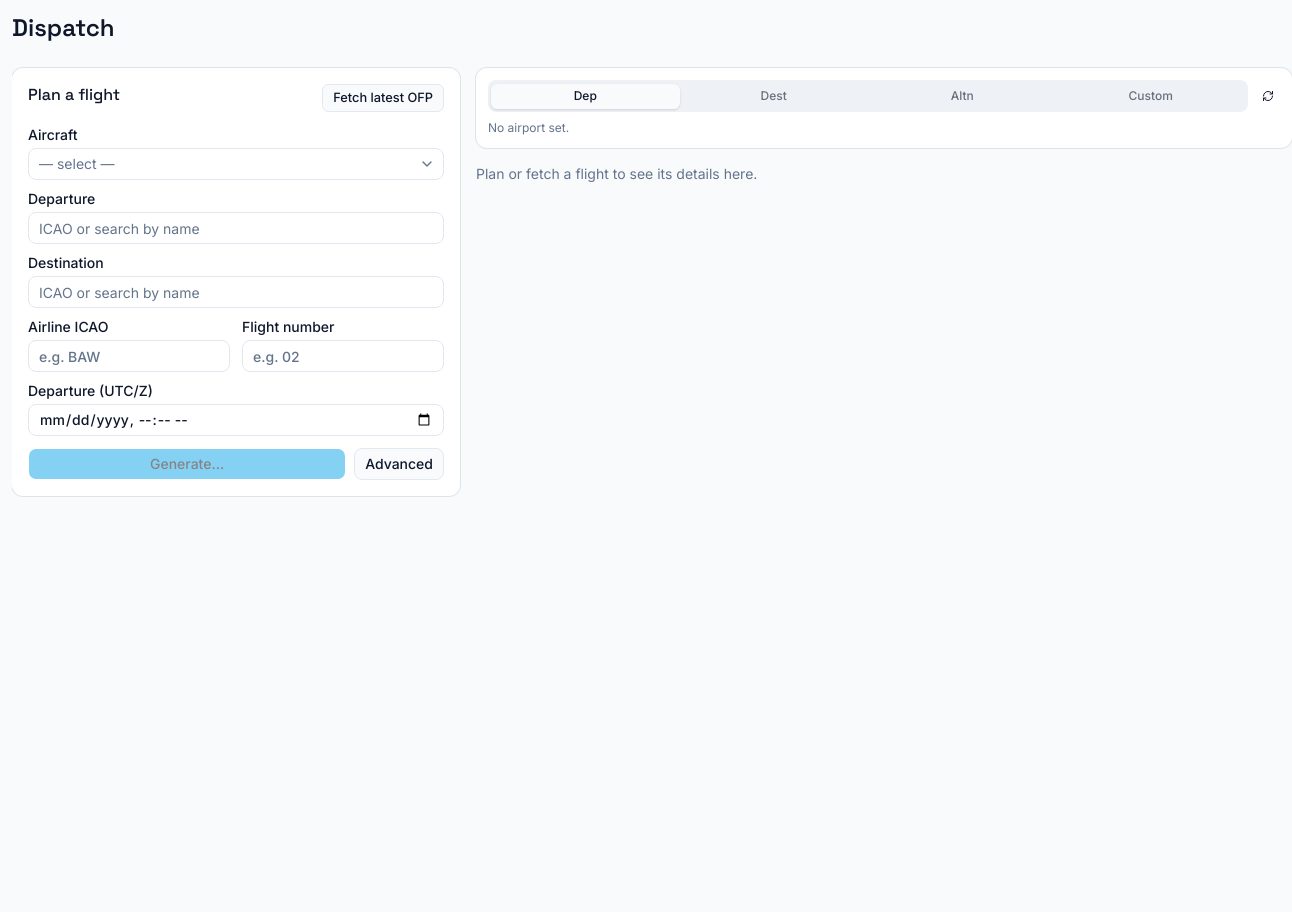
Test: DispatchView › fetching a plan › prefers an aircraft already chosen in "Plan a flight" over the OFP's own registration match
Click the dropdown.
click(77, 164)  # box [28,148,444,180]
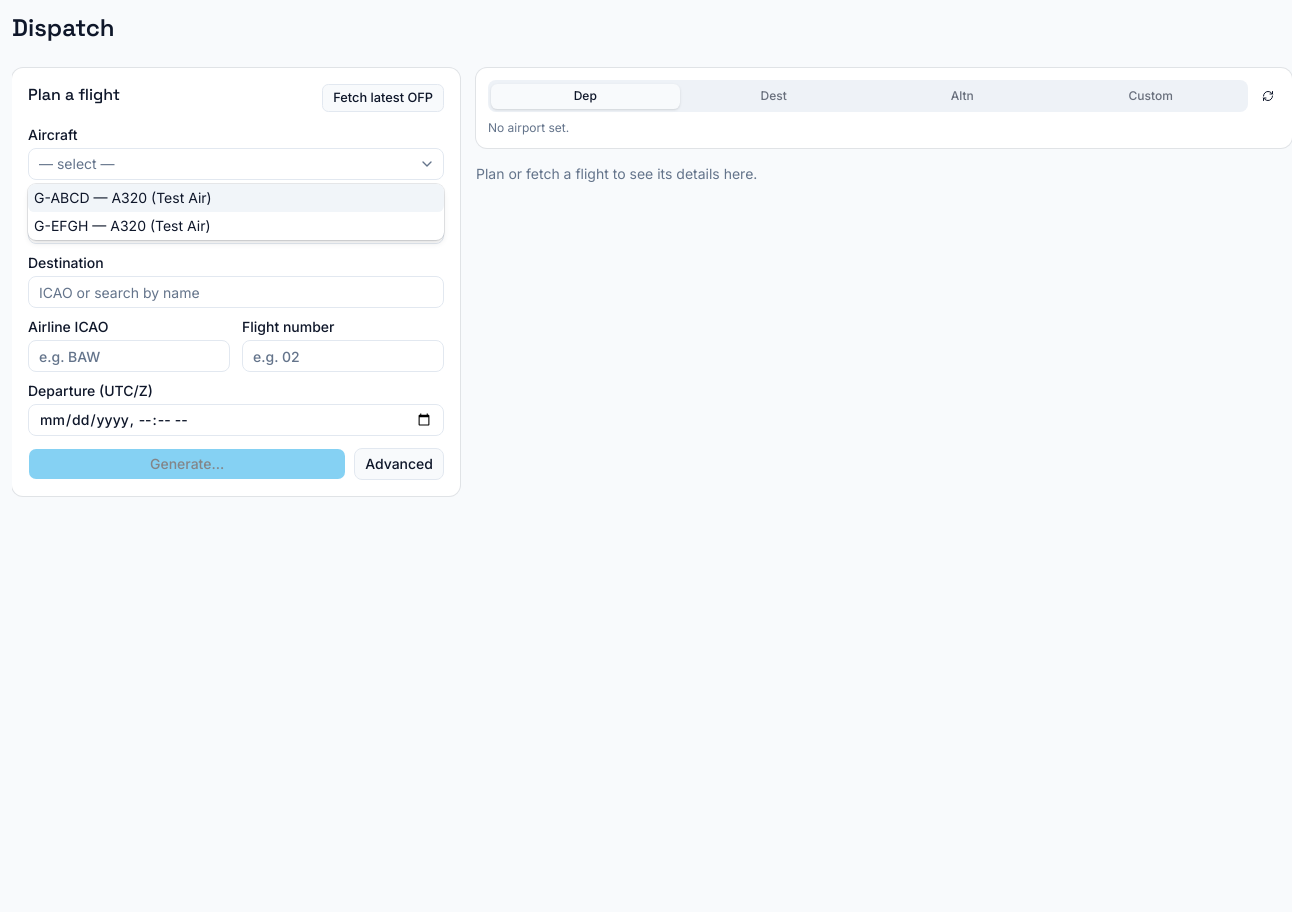
Click the option "G-ABCD — A320 (Test Air)".
click(123, 198)  # box [28,184,444,212]
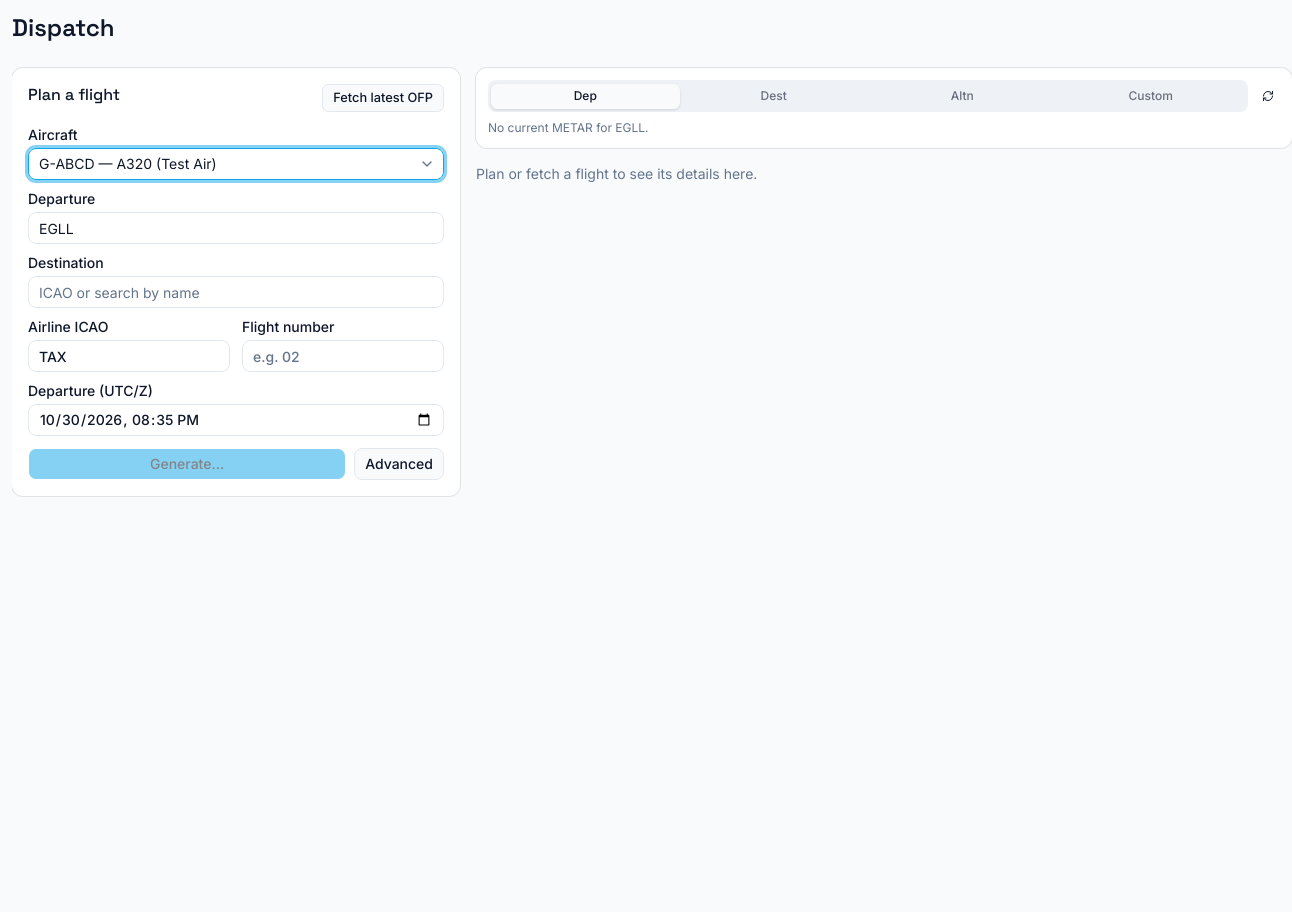
Click the button "Fetch latest OFP".
click(383, 98)  # box [322,84,444,112]
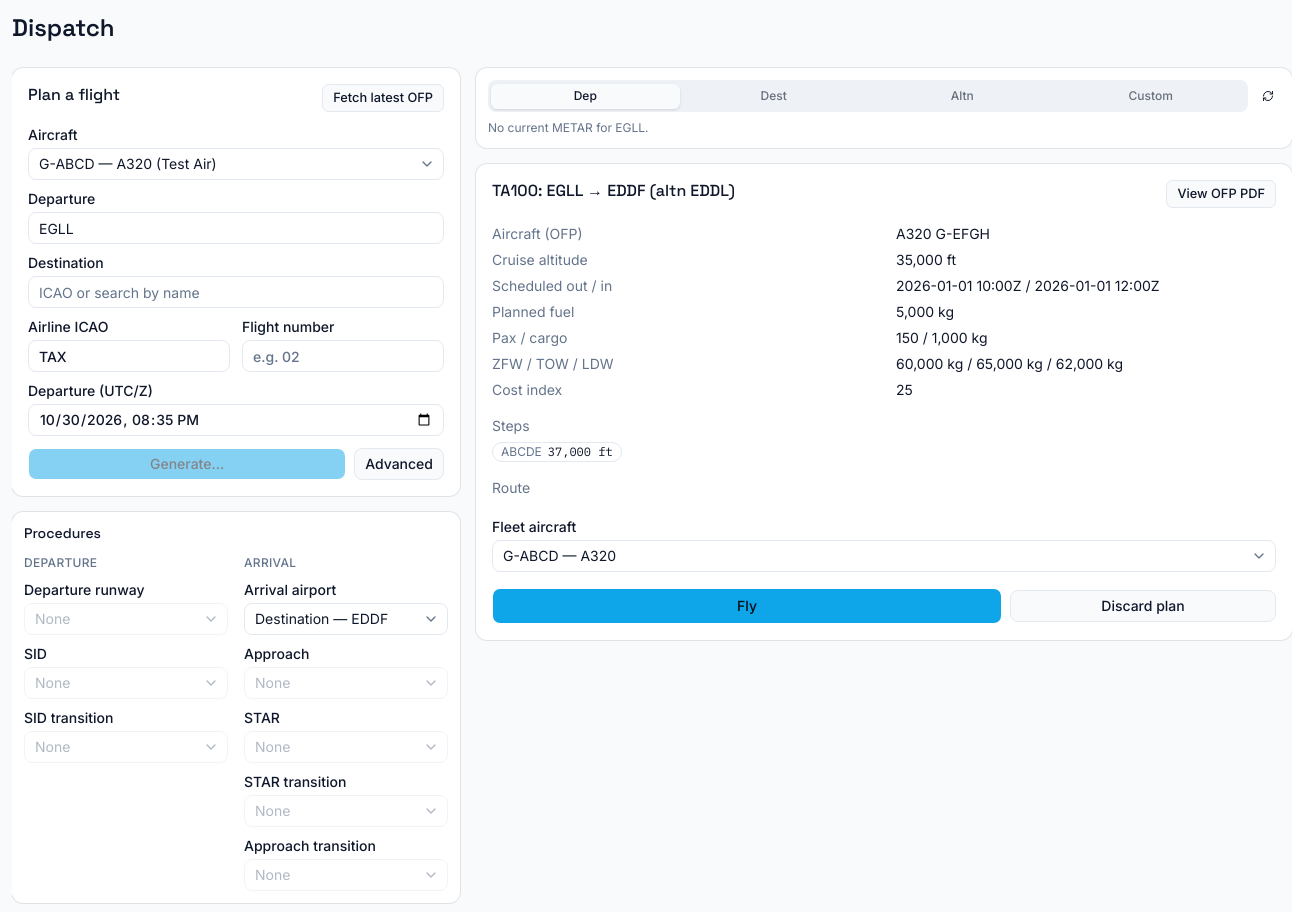
Check: the text "TA100: EGLL → EDDF (altn EDDL)" is shown, box [492,180,735,201]
Click the dropdown labelled "G-ABCD — A320".
click(531, 556)  # box [492,540,1276,572]
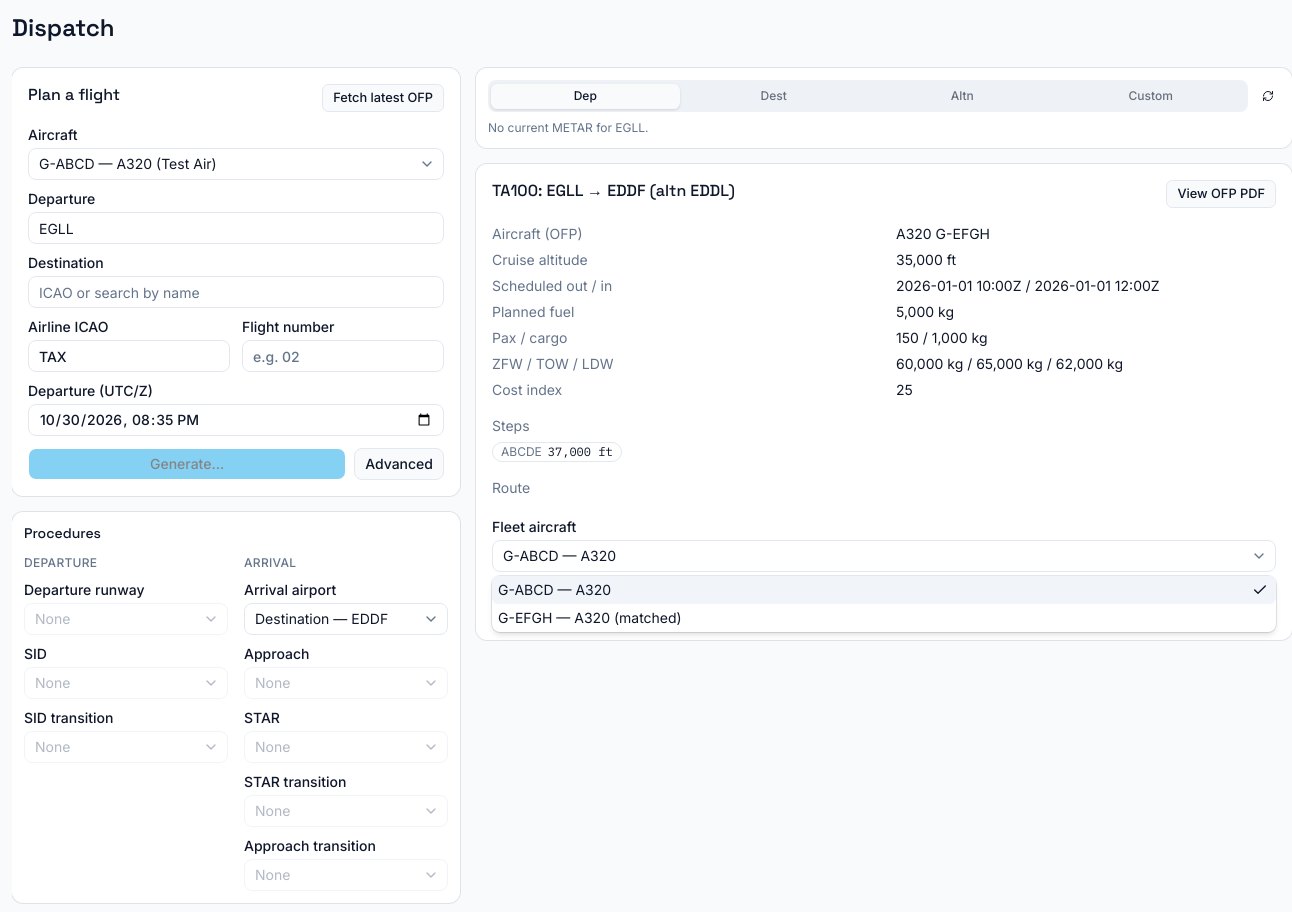
Check: the option "G-EFGH — A320 (matched)" is shown
Click the option "G-EFGH — A320 (matched)".
click(590, 618)  # box [498,609,682,626]
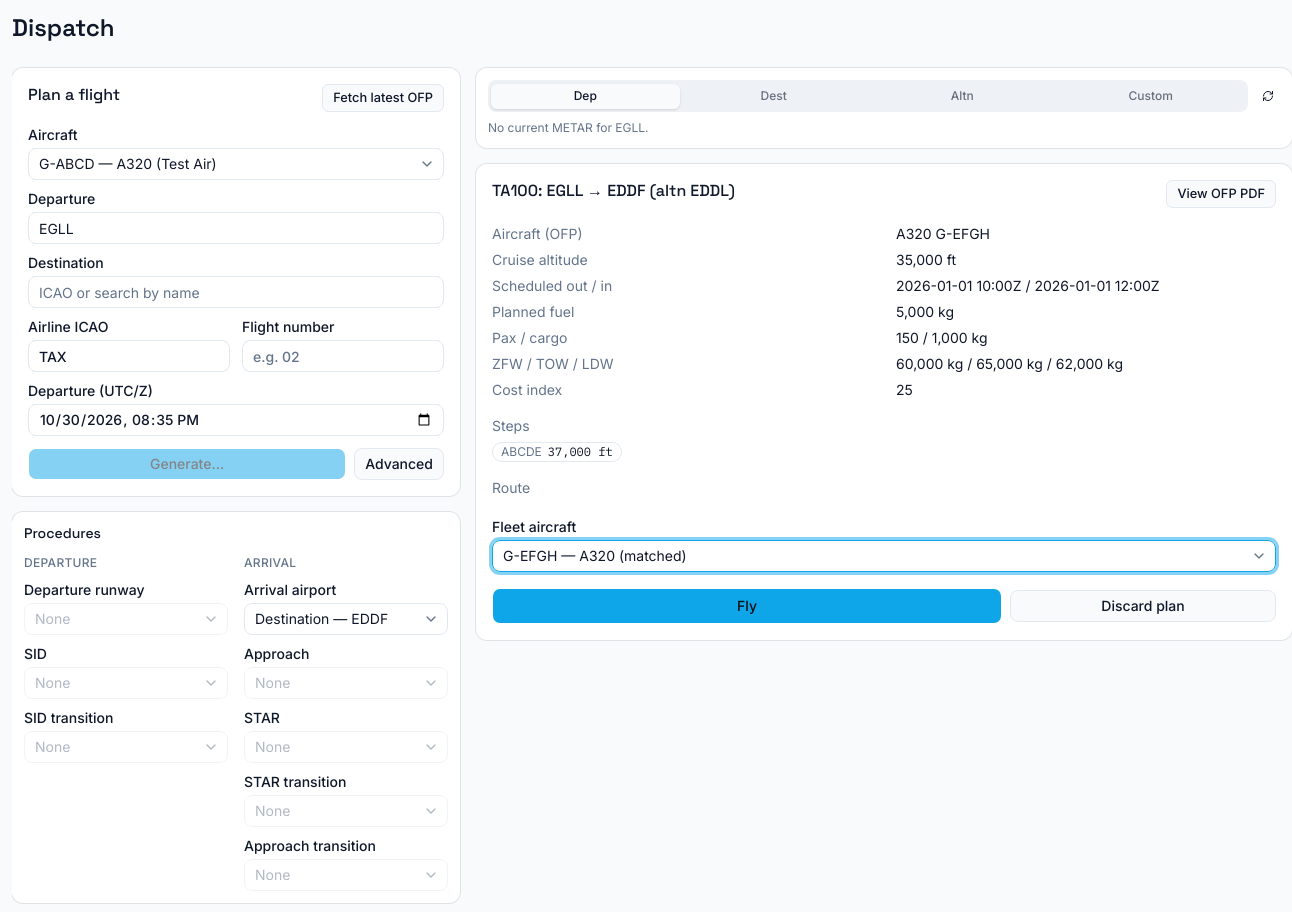
Check: the text "G-EFGH — A320 (matched)" is shown, box [503,546,687,566]
